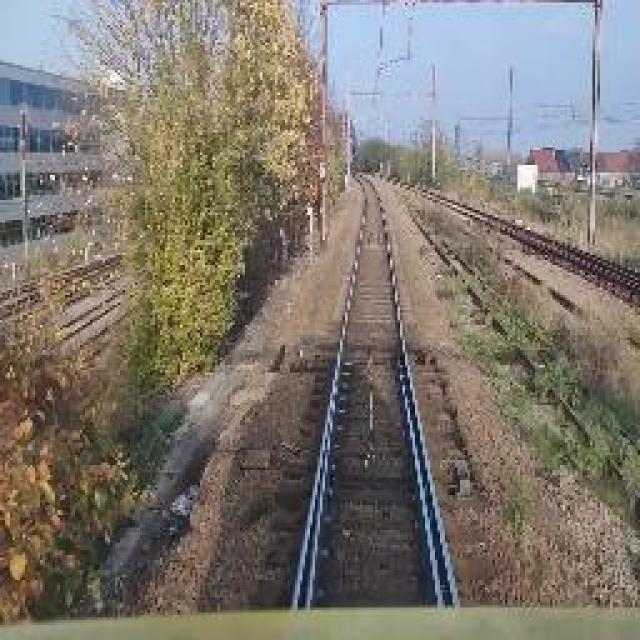rail: (251, 167, 494, 615)
